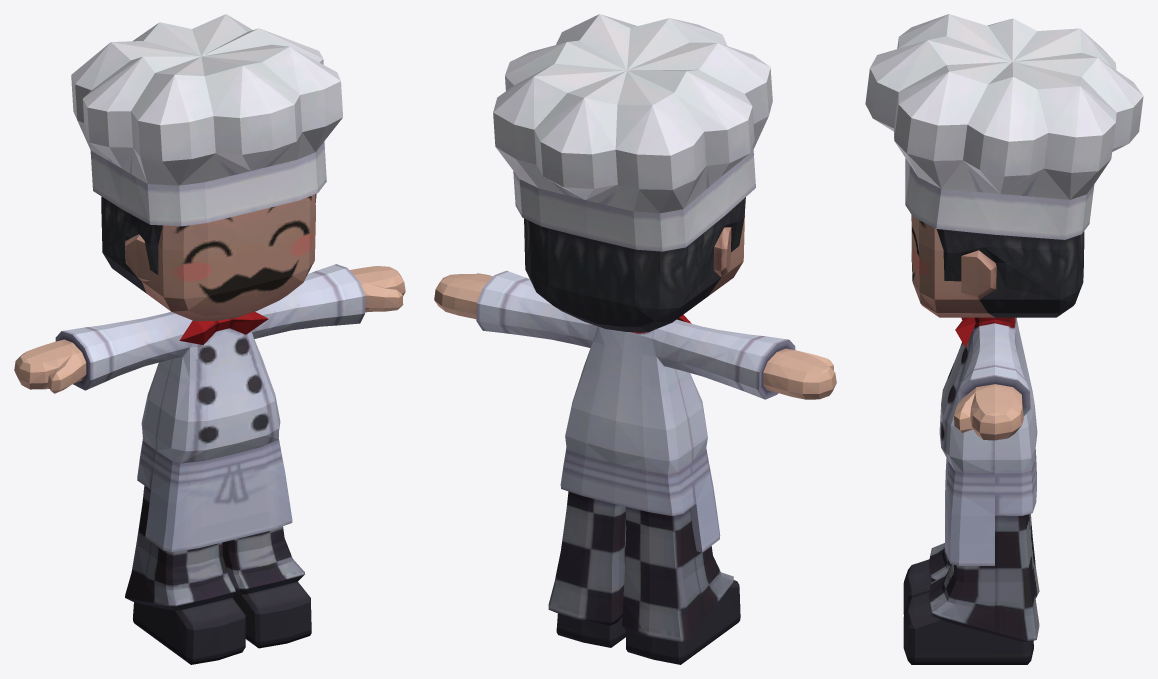
File: Chef.obj
3 renders of one model, left to right at view 1: azimuth 30°, elevation 25°; view 2: azimuth 150°, elevation 25°; view 3: azimuth 270°, elevation 25°, orthographic. The views are drawn at different scales.
Parts seen in each view (by area): view 1: Mesh_0008, Mesh_0006, Mesh_0001, Mesh_0007; view 2: Mesh_0008, Mesh_0006, Mesh_0007, Mesh_0001; view 3: Mesh_0006, Mesh_0008, Mesh_0007, Mesh_0001.
Boxes of the visible parts, x1,y1,x2,y2 form: Mesh_0008: [14, 264, 405, 664]; Mesh_0006: [71, 14, 342, 226]; Mesh_0001: [125, 194, 315, 321]; Mesh_0007: [101, 194, 316, 292]; Mesh_0008: [434, 270, 836, 664]; Mesh_0006: [493, 14, 772, 251]; Mesh_0007: [524, 197, 745, 332]; Mesh_0001: [708, 213, 744, 295]; Mesh_0006: [865, 14, 1143, 239]; Mesh_0008: [903, 317, 1039, 664]; Mesh_0007: [936, 229, 1084, 317]; Mesh_0001: [911, 215, 996, 317].
Bounding box in the file's own units: 1.35 × 1.95 × 0.8246.
Materials: 4 (4 with a texture image).
